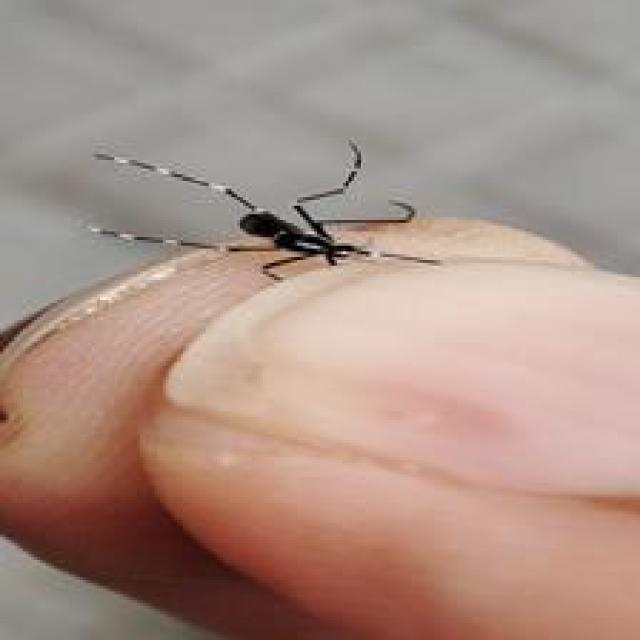Aedes albopictus: (83, 137, 440, 283)
